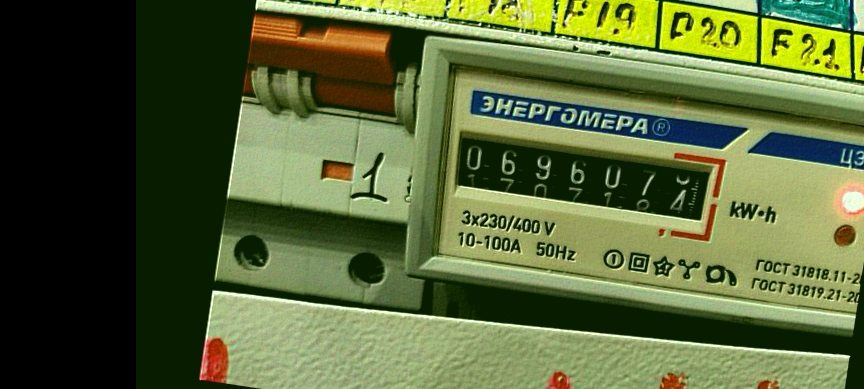0: (463, 141, 487, 174), (603, 159, 626, 192)
4: (667, 185, 690, 216)
6: (497, 145, 523, 178), (568, 156, 591, 187)
7: (637, 166, 659, 198)
9: (533, 152, 556, 183)
screen: (434, 111, 730, 243)
